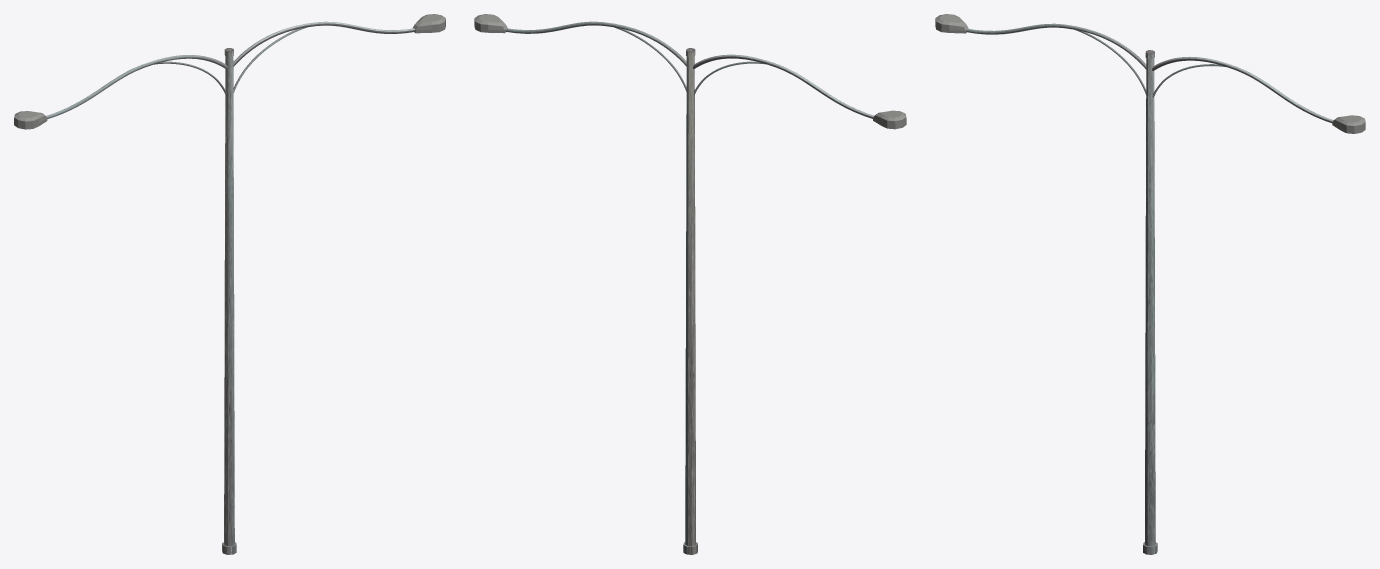
The model's file is DoubleStreetlight.glb.
The picture shows the model from 3 angles, left to right: view 1: azimuth 30°, elevation 25°; view 2: azimuth 150°, elevation 25°; view 3: azimuth 330°, elevation 25°; orthographic projection.
Parts seen in each view (by area): view 1: StreetlightDouble; view 2: StreetlightDouble; view 3: StreetlightDouble.
Boxes of the visible parts, x1,y1,x2,y2 form: StreetlightDouble: [14, 14, 445, 554]; StreetlightDouble: [474, 14, 906, 554]; StreetlightDouble: [935, 14, 1365, 554].
Bounding box in the file's own units: 38.17 × 43.46 × 2.03.
2 materials, 1 textured.
